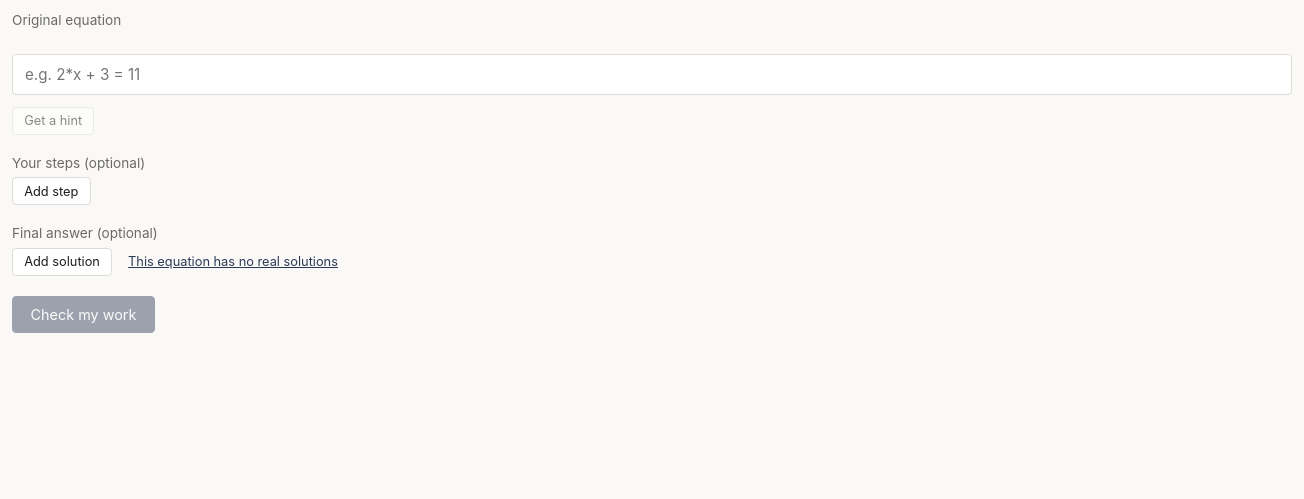
Test: CheckWorkForm › sends an explicit empty solutions list when claiming no real solutions
The width and height of the screenshot is (1304, 499).
Type "x^2 + 1 = 0" into the field labelled "Original equation".
click(652, 74); type("x^2 + 1 = 0")  # box [12,54,1292,95]
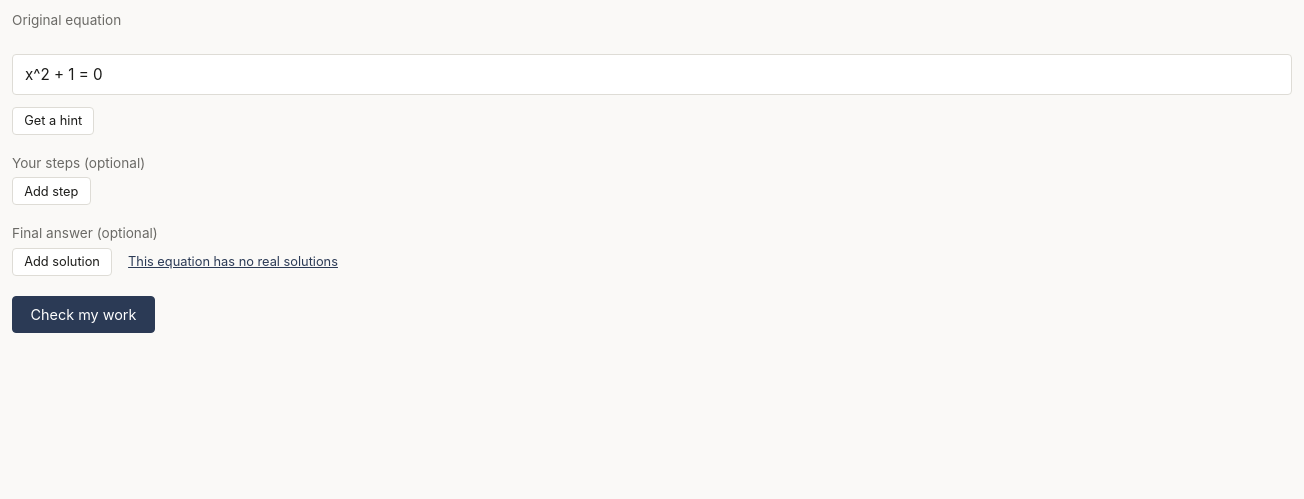
Click the button "This equation has no real solutions".
click(233, 262)  # box [128,249,338,275]
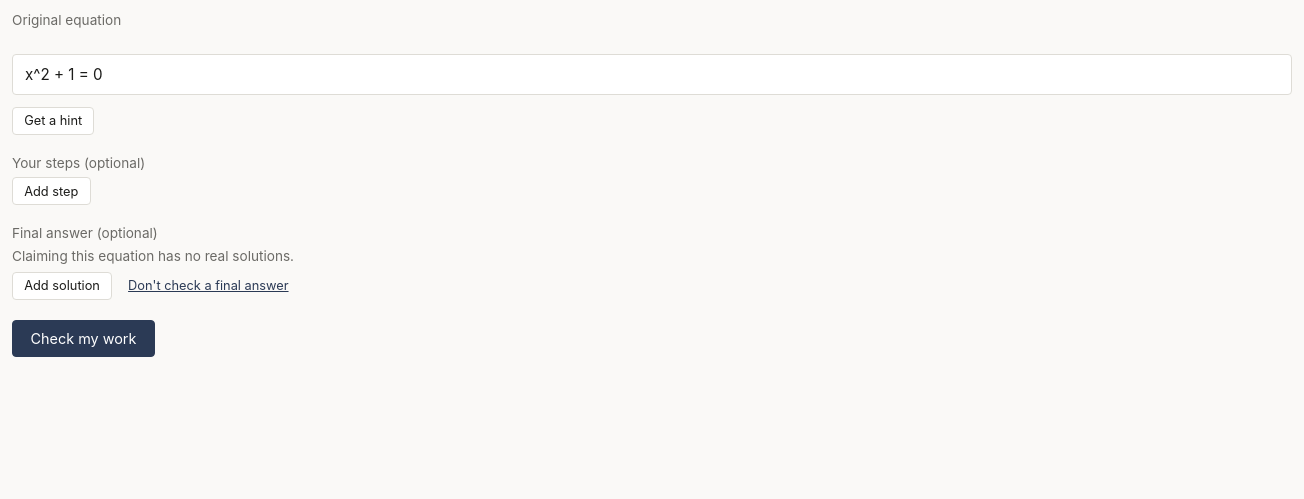
Click the button "Check my work".
click(84, 338)  # box [12,320,155,356]
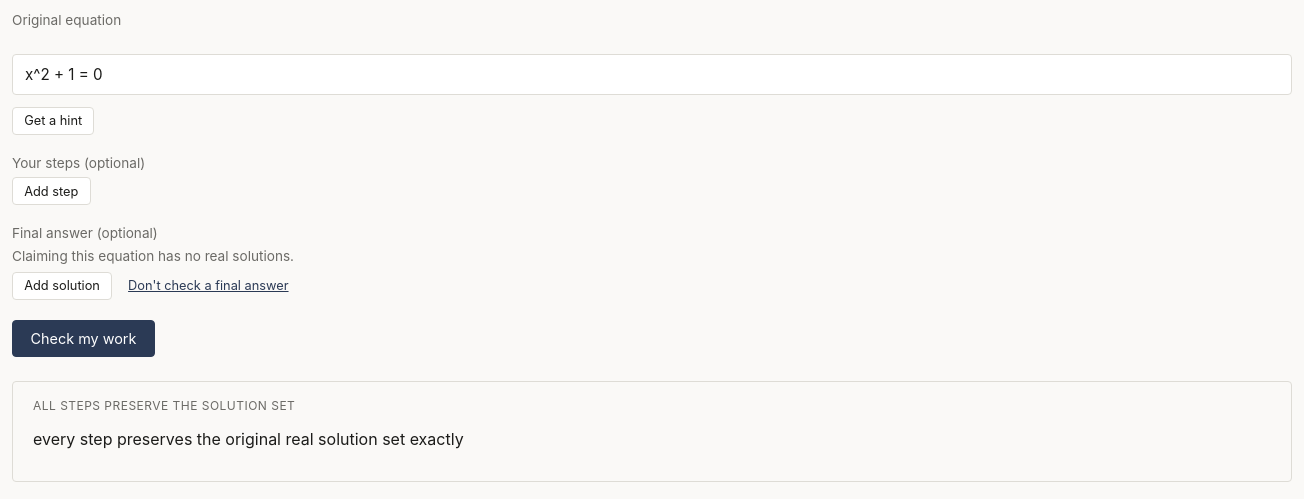
Now the text "All steps preserve the solution set" is shown, box [33,398,295,412]
